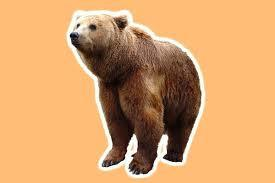bear: (65, 12, 210, 182)
